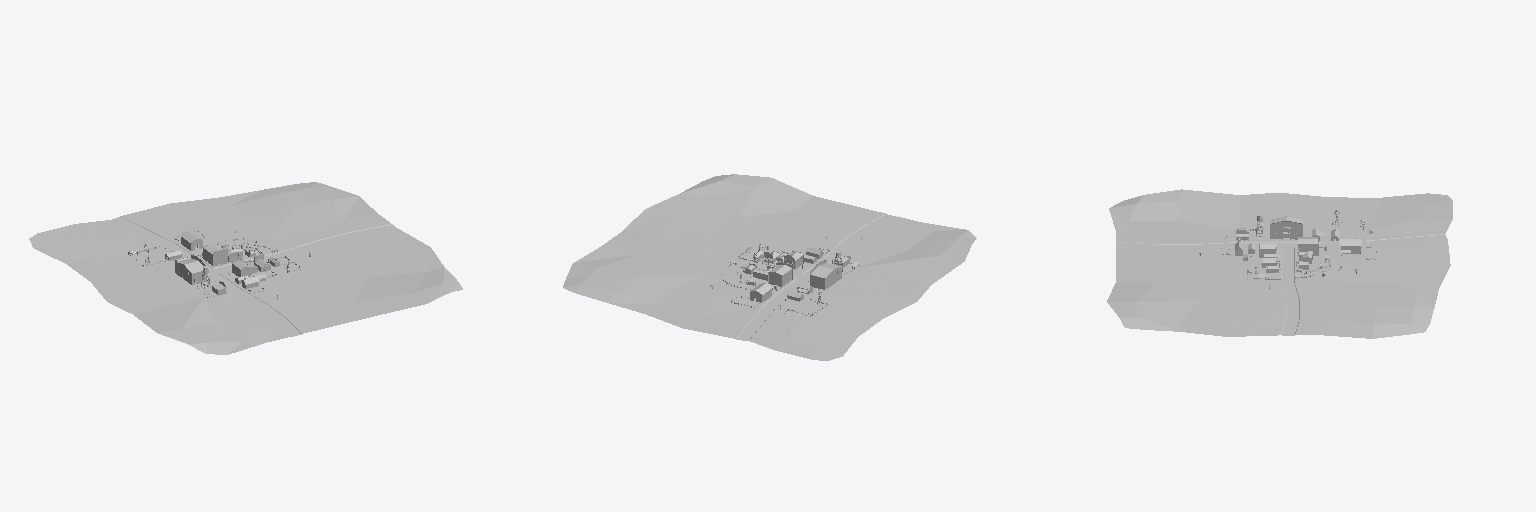
File: west town finish.obj
3 views of the same model, side by side, from view 1: azimuth 30°, elevation 25°; view 2: azimuth 150°, elevation 25°; view 3: azimuth 270°, elevation 25° (orthographic).
Visible parts, largest first — view 1: Plane, Cube.011_Cube.006; view 2: Plane, Cube.011_Cube.006; view 3: Plane, Cube.011_Cube.006.
Boxes of the visible parts, box(x1,y1,x2,y2) form: Plane: box(29, 182, 462, 354); Cube.011_Cube.006: box(175, 254, 206, 284); Plane: box(563, 174, 976, 360); Cube.011_Cube.006: box(810, 259, 841, 289); Plane: box(1107, 189, 1452, 338); Cube.011_Cube.006: box(1270, 216, 1302, 240).
Bounding box in the file's own units: 12.61 × 0.9224 × 12.68.